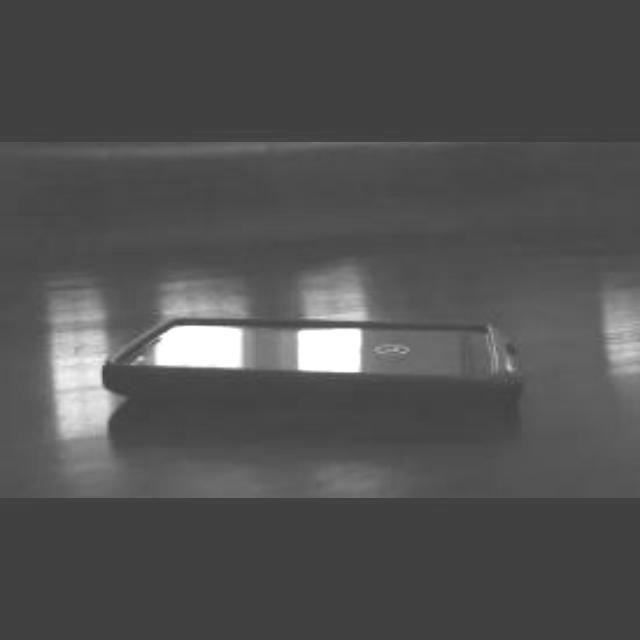fake: (101, 266, 549, 452)
